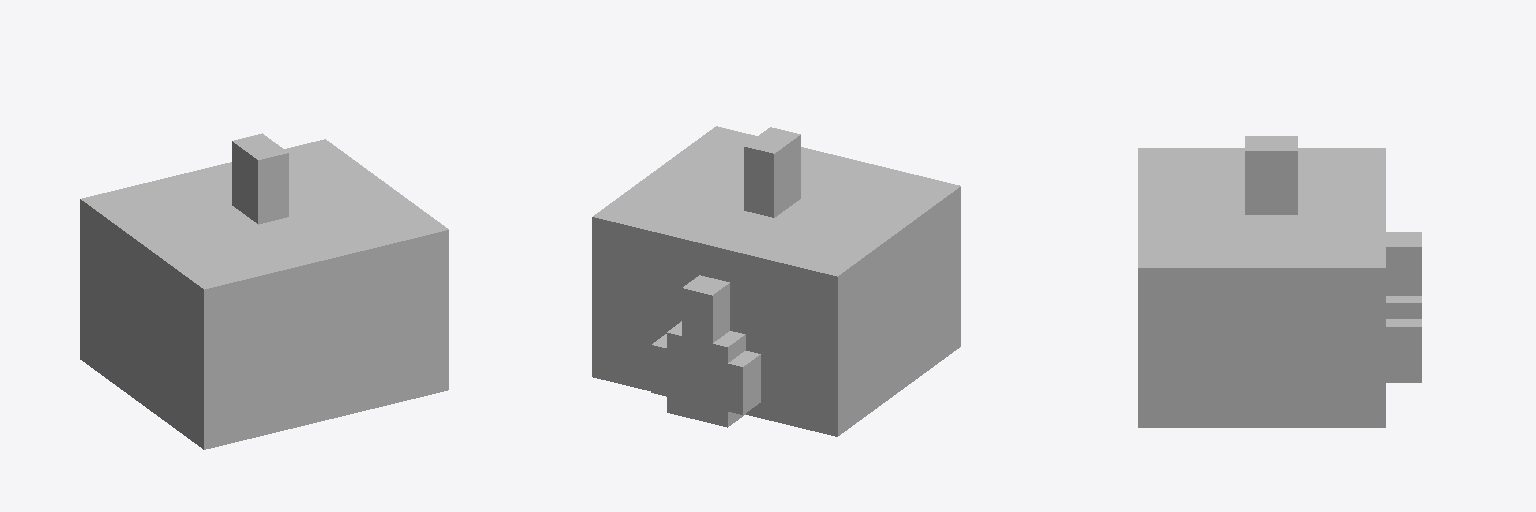
File: extracteur_de_magie.obj
3 views of the same model, side by side, from view 1: azimuth 30°, elevation 25°; view 2: azimuth 150°, elevation 25°; view 3: azimuth 270°, elevation 25° (orthographic).
Visible parts, largest first — view 1: cube; view 2: cube; view 3: cube.
Part boxes in pixels (x1,y1,x2,y2): cube: (80, 133, 448, 449); cube: (592, 126, 960, 436); cube: (1138, 136, 1421, 427).
Size of the model in its own units: 1 by 0.875 by 1.